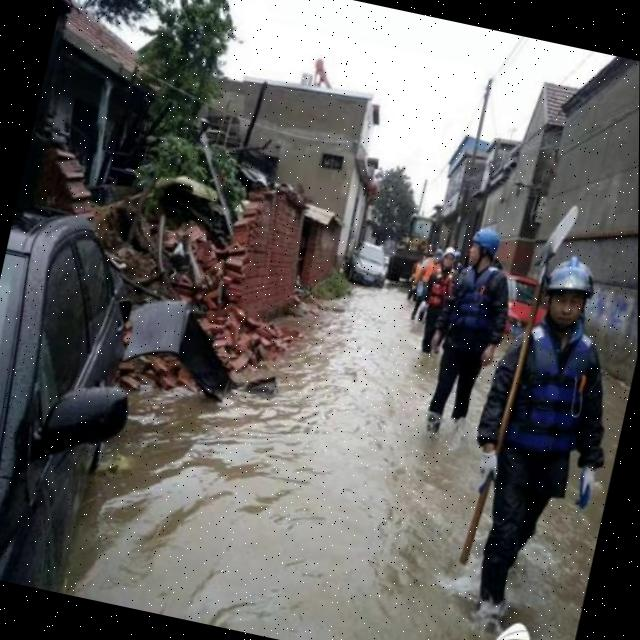rescuer: (426, 238, 638, 640), (416, 215, 542, 445), (408, 236, 477, 356), (409, 243, 450, 328), (404, 244, 431, 302)
